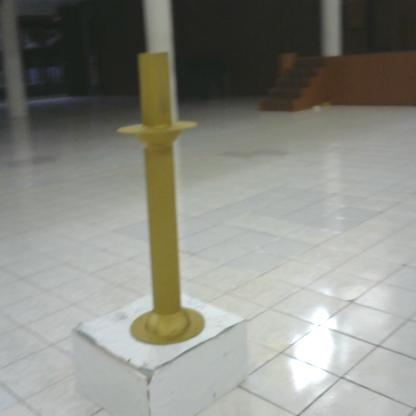pole: (107, 46, 218, 357)
